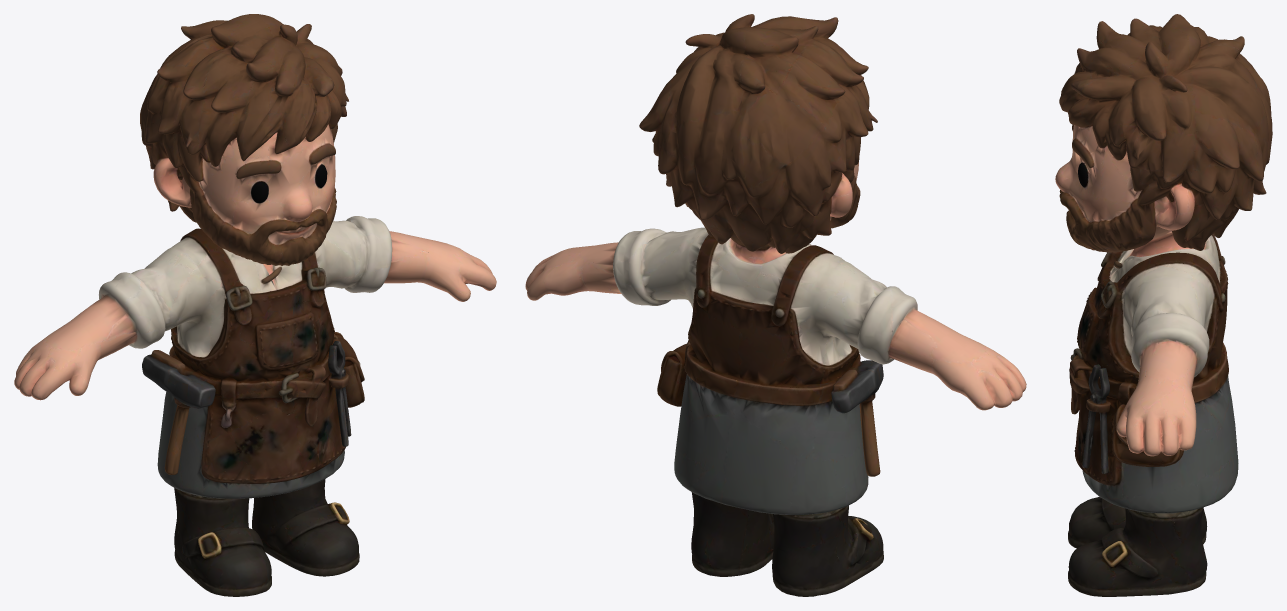
Rendered from a3D-herrero.glb.
The picture shows the model from 3 angles, left to right: view 1: azimuth 30°, elevation 25°; view 2: azimuth 150°, elevation 25°; view 3: azimuth 270°, elevation 25°; orthographic projection. The views are drawn at different scales.
Visible parts, largest first — view 1: geometry_0; view 2: geometry_0; view 3: geometry_0.
Boxes of the visible parts, bbox=[...] form: geometry_0: bbox=[14, 14, 496, 596]; geometry_0: bbox=[525, 14, 1026, 596]; geometry_0: bbox=[1055, 14, 1272, 596].
Bounding box in the file's own units: 1.79 × 1.9 × 0.7046.
1 material, 1 textured.
